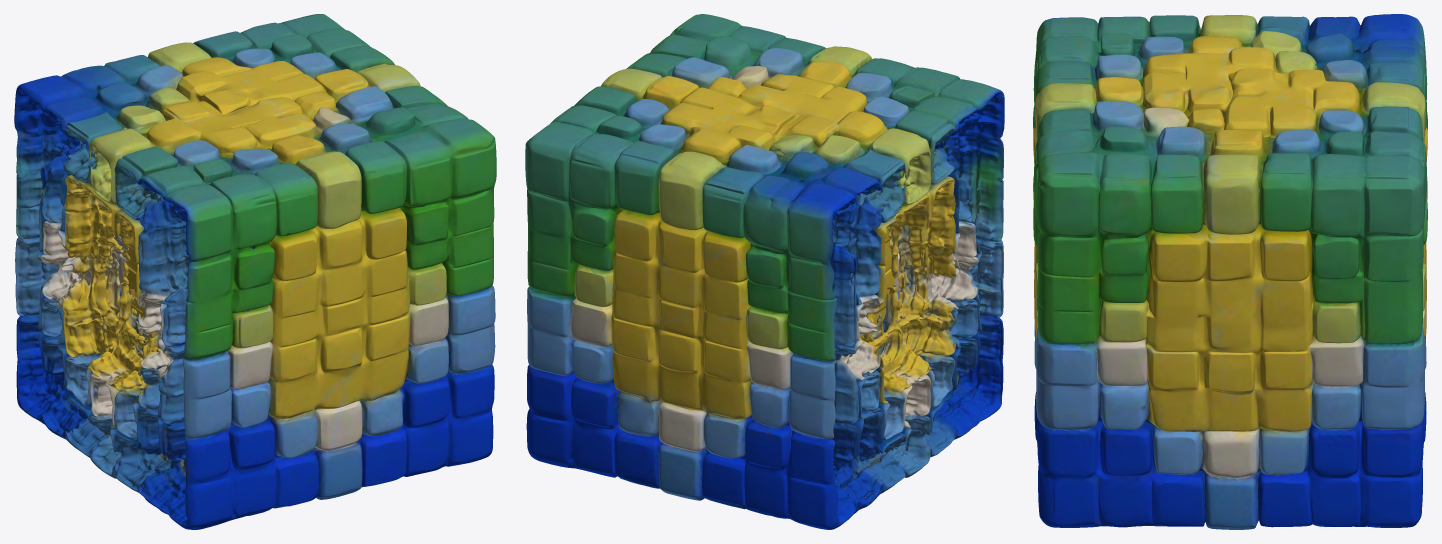
Rendered from snake_body.glb.
3 renders of one model, left to right at view 1: azimuth 30°, elevation 25°; view 2: azimuth 150°, elevation 25°; view 3: azimuth 270°, elevation 25°, orthographic. The views are drawn at different scales.
Size of the model in its own units: 0.978 by 0.9999 by 0.9718.
Materials: 1 (1 with a texture image).
